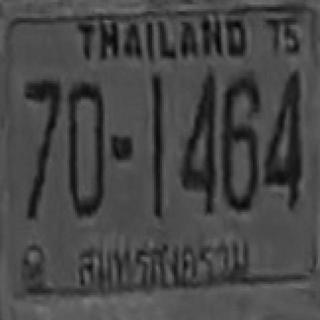N00: (68, 81, 106, 214)
N01: (151, 73, 166, 221)
N04: (178, 72, 215, 212), (263, 69, 300, 208)
N06: (222, 75, 260, 214)
N07: (24, 79, 59, 223)
P59: (70, 232, 253, 292)
